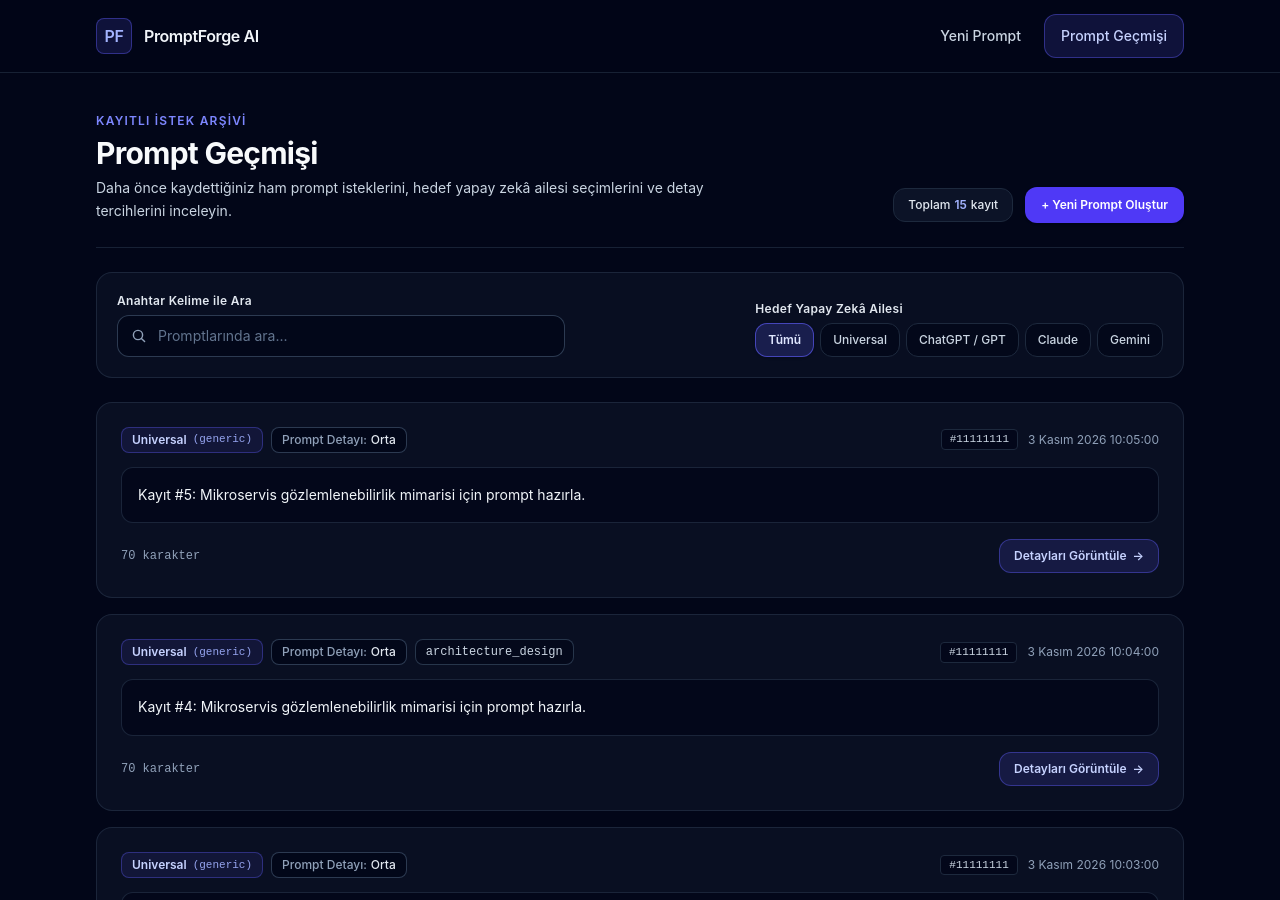
Test case: Prompt history, server-side pagination, and navigation (Milestone 4B-1) › preserves selected page across direct URL refresh (/history?page=2) and returns to exact history page from detail view
Expected: the text "Kayıt #5:" is shown, [138,486,585,502]
Note: Open detail page of the first card on page 2 (#5)
Click the 1st link "Detayları Görüntüle →": (1079, 556) [999,539,1159,573]
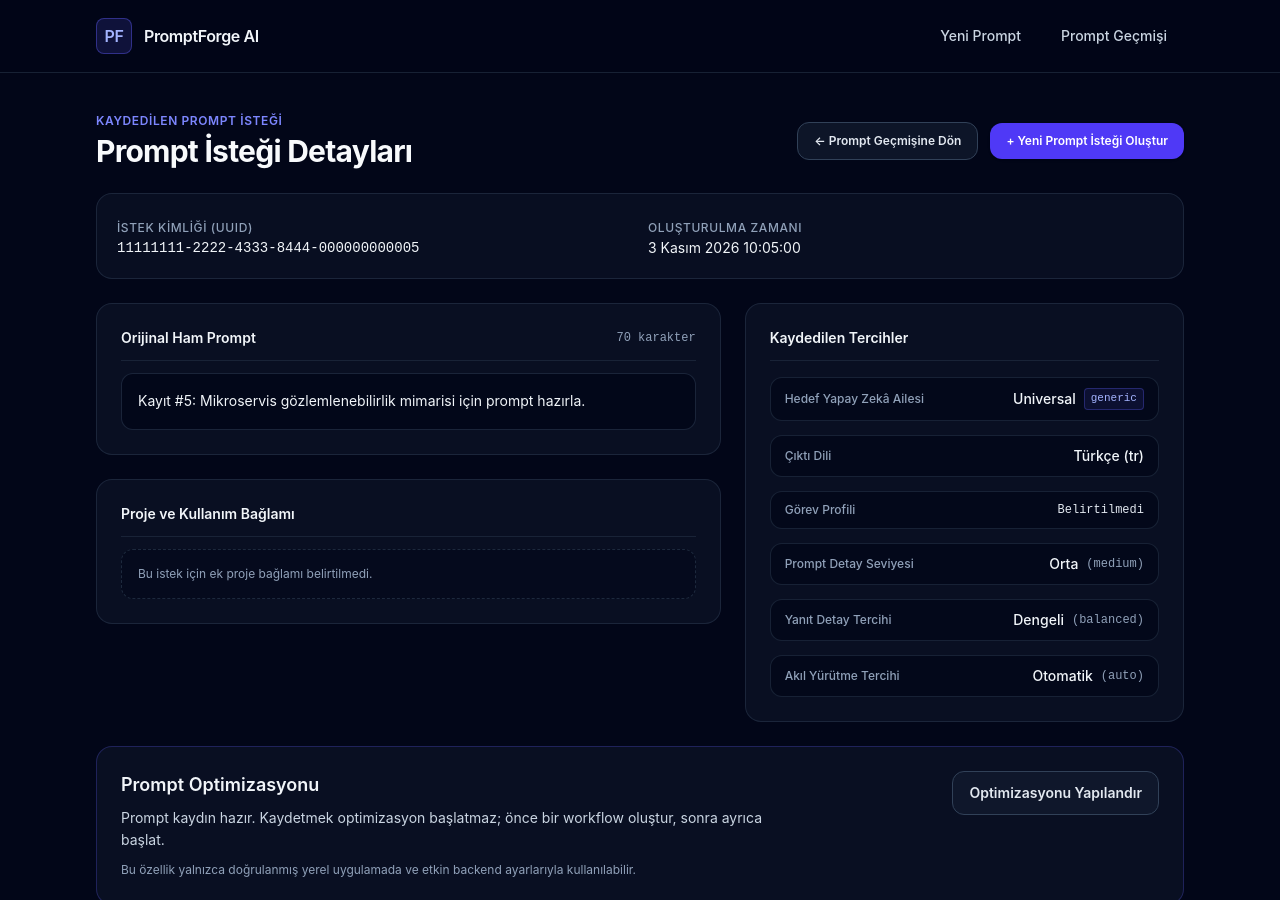
Result: the heading "Prompt İsteği Detayları" is shown at [96,133,412,169]
Note: Return to history preserves page 2!
Click the link "← Prompt Geçmişine Dön": (888, 141) [797,122,978,160]
(page scrolled)
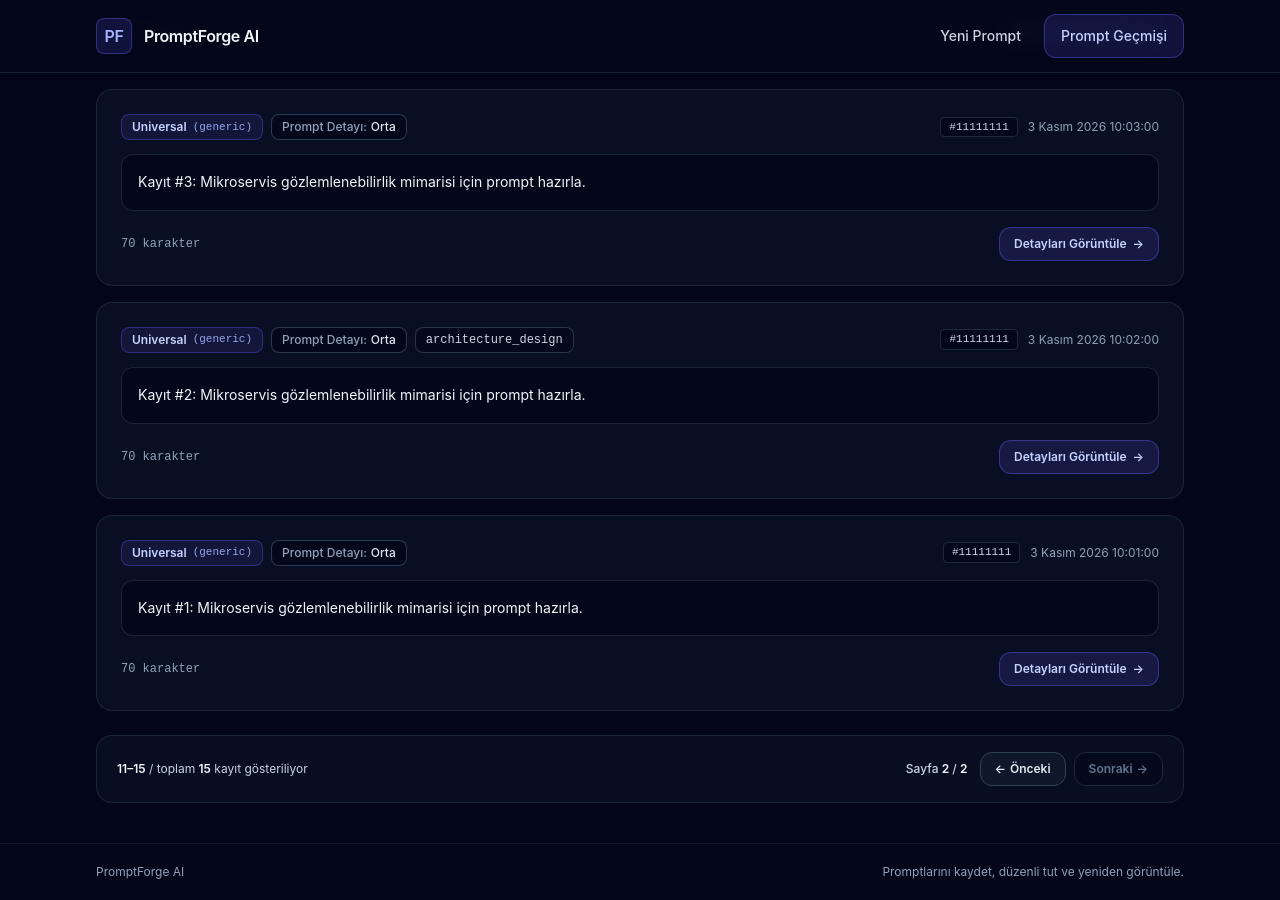
Result: the navigation bar named "Prompt geçmişi sayfalama" shows "Sayfa 2 / 2" at [96,735,1184,803]
